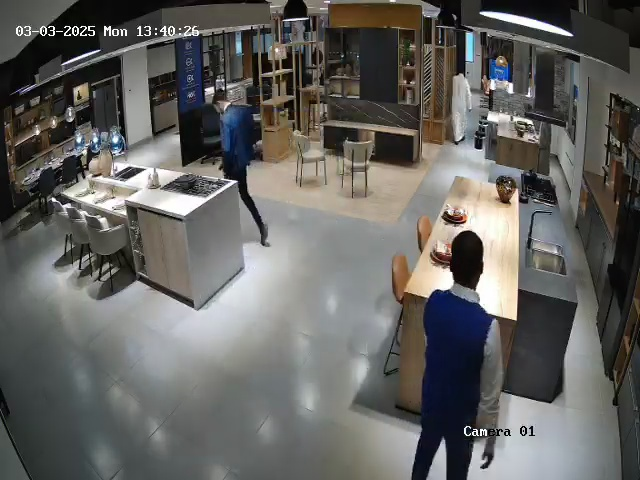employee: (212, 91, 271, 248)
male: (410, 229, 504, 480), (452, 60, 475, 148)
